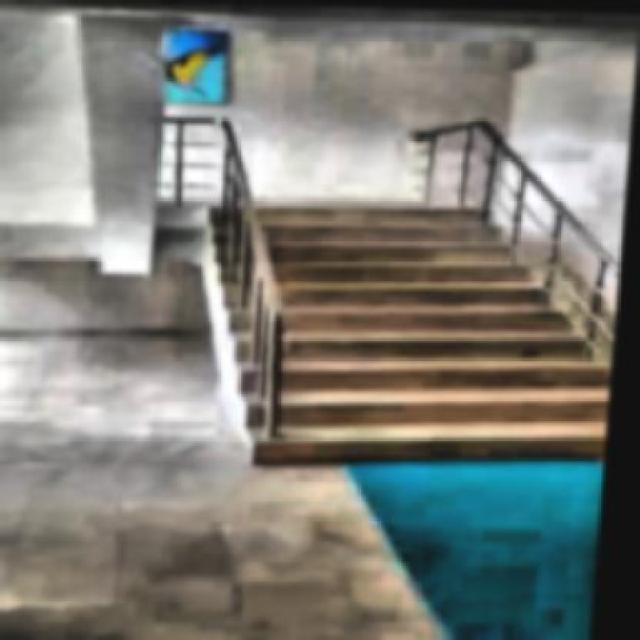stair: (184, 198, 626, 466)
